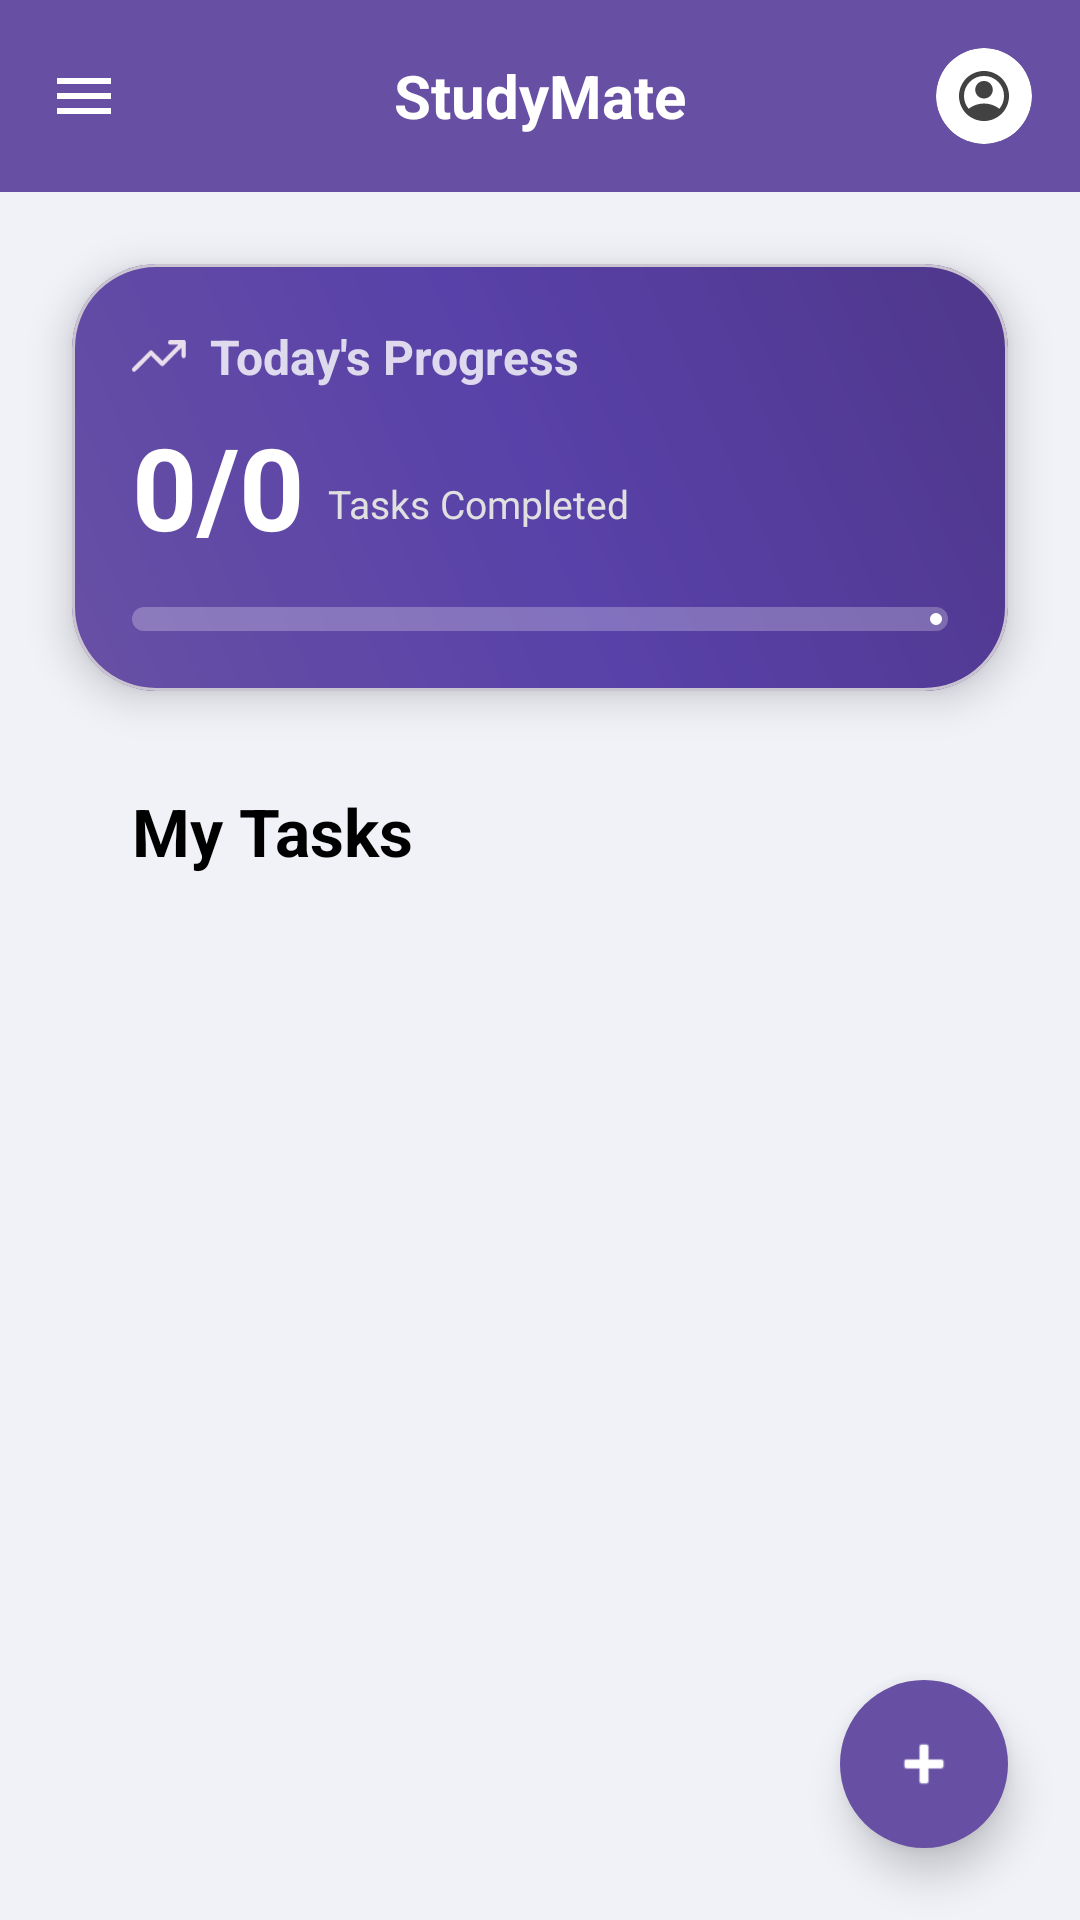

Screen size 1080px x 1920px. Icon name, then its box in pixels as (x1, y1, x2, y2):
add: (840, 1680, 1008, 1848)
profile custom: (936, 48, 1032, 144)
progress custom: (132, 340, 186, 372)
